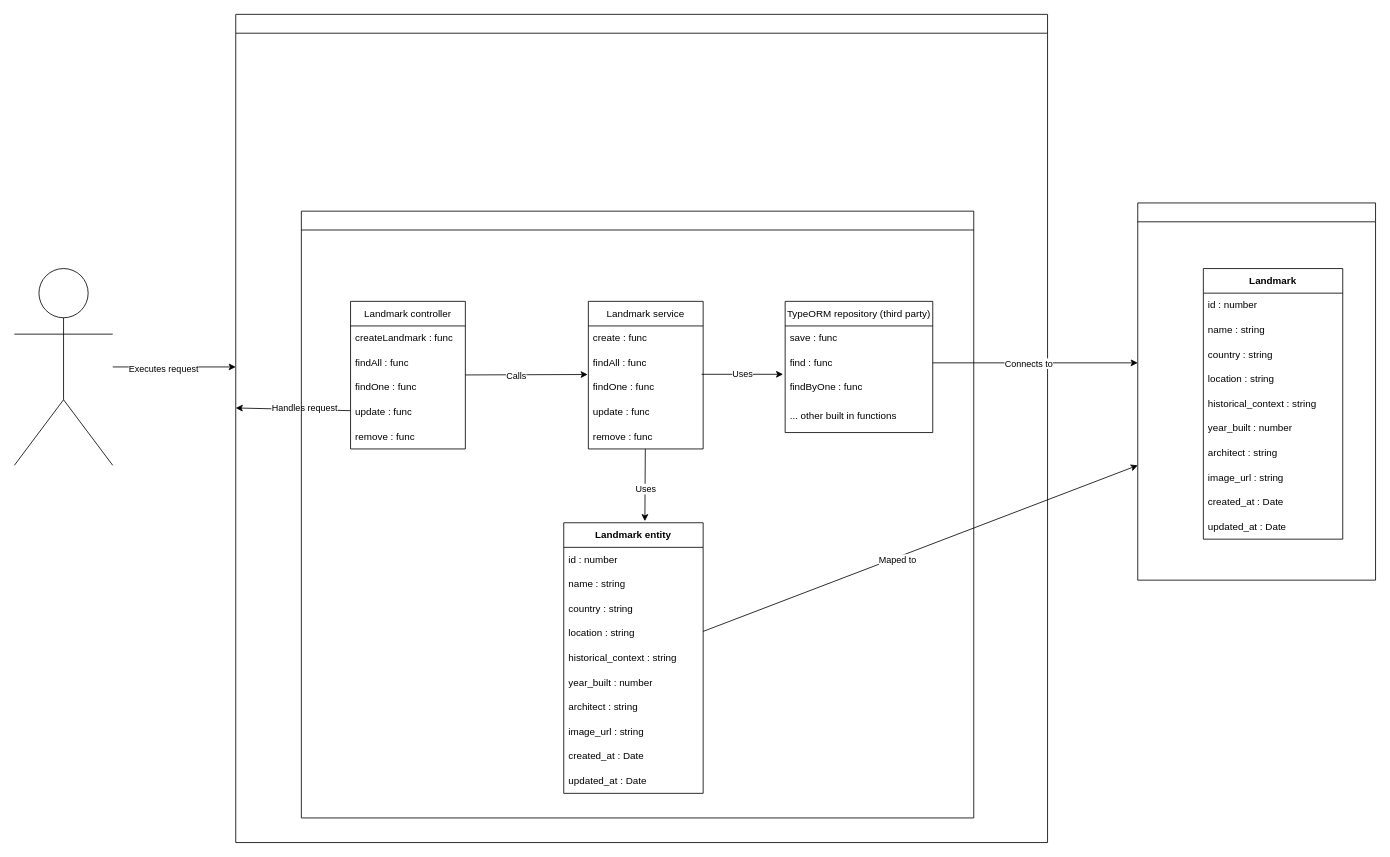
Image size: 1390x857. Some labels were removed from this diagram. Here are the shapes that lost their labels. From the top down, the box of each, then its label:
(14, 268, 113, 465): Client
(1137, 202, 1376, 580): PostgreSQL database
(301, 210, 974, 818): Landmark module
